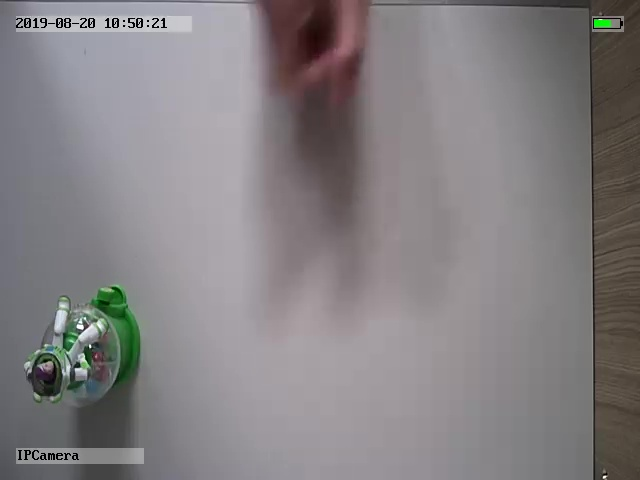buzz: (23, 282, 142, 406)
